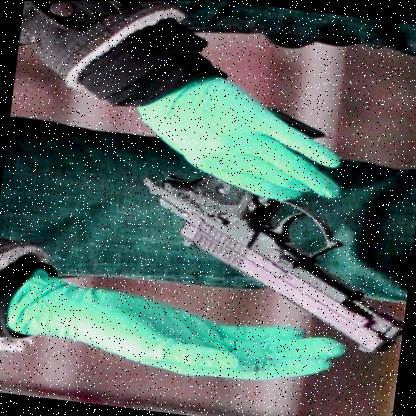rifle: (122, 100, 416, 366)
